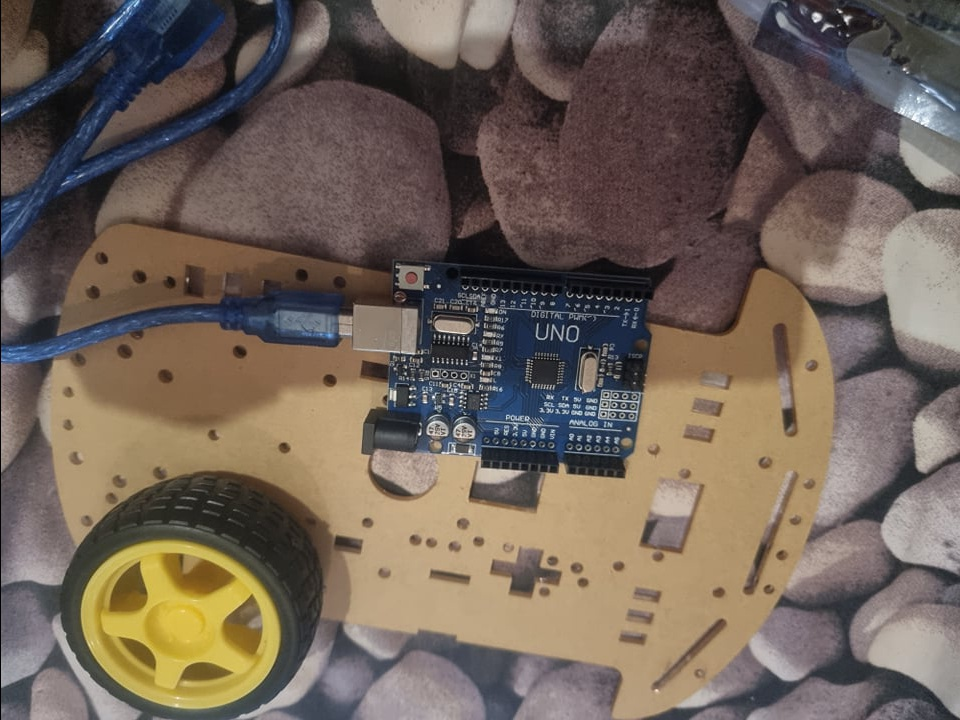UNO R3: (349, 261, 654, 479)
